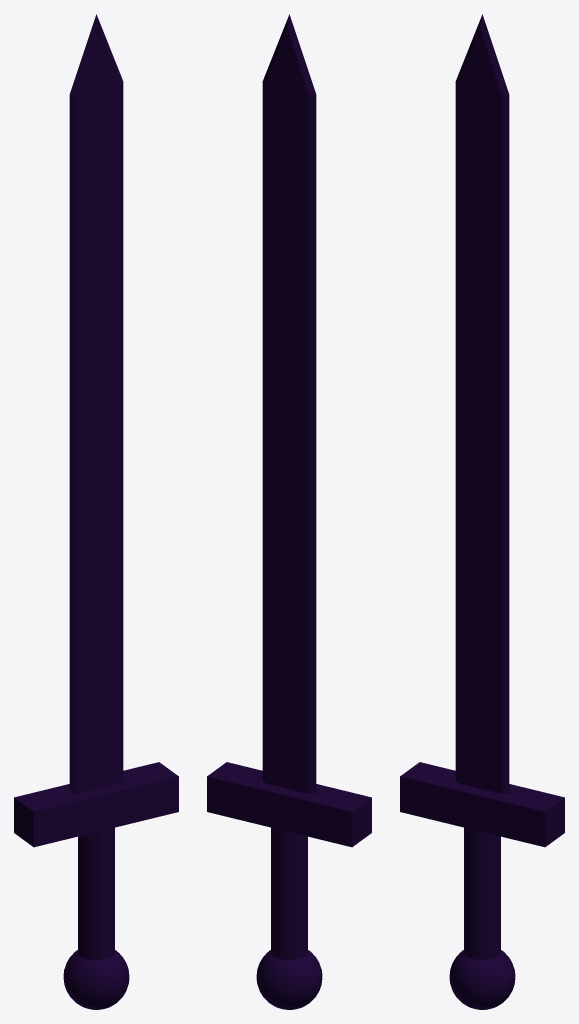
File: schwert.glb
The picture shows the model from 3 angles, left to right: view 1: azimuth 30°, elevation 25°; view 2: azimuth 150°, elevation 25°; view 3: azimuth 330°, elevation 25°; orthographic projection.
Parts seen in each view (by area): view 1: schwert; view 2: schwert; view 3: schwert.
Boxes of the visible parts, x1,y1,x2,y2 form: schwert: (14, 14, 178, 1009); schwert: (207, 14, 371, 1009); schwert: (400, 14, 564, 1009).
Size of the model in its own units: 0.2558 by 1.67 by 0.101.
